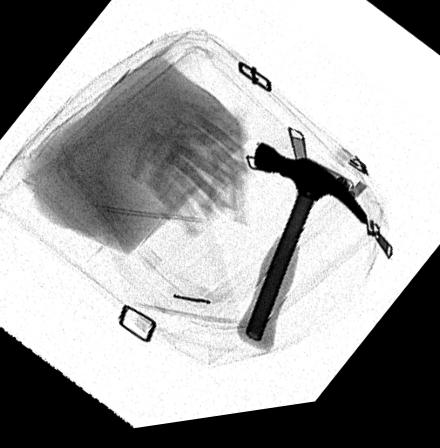Hammer: (235, 147, 370, 360)
